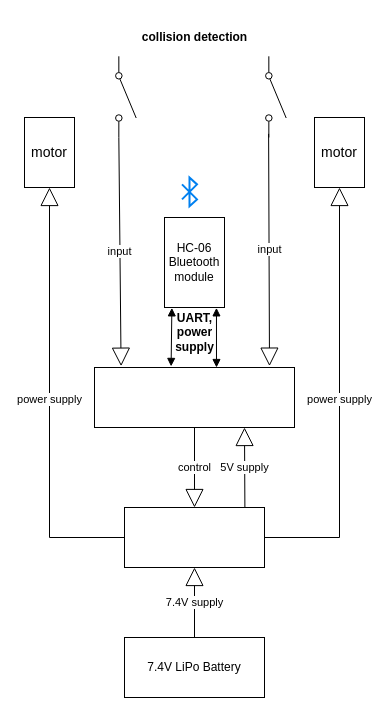
The diagram is 389 pixels wide and 715 high, and some of its shapes have lost their labels. Each missing label, with the centre of its shape:
"L298N motor driver" goes at point (194, 537).
"Microcontroller" goes at point (194, 397).
